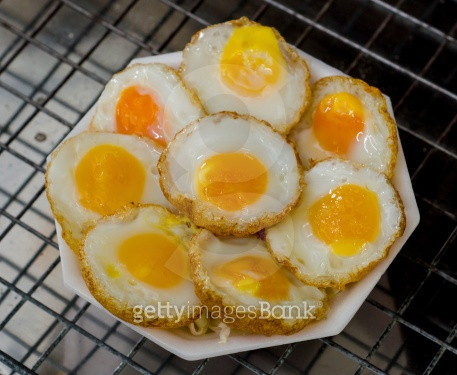fried egg: (157, 113, 310, 228), (192, 218, 339, 336), (275, 161, 406, 284), (82, 207, 207, 325), (182, 20, 311, 134), (40, 133, 185, 234), (301, 64, 401, 184), (88, 66, 209, 154)
